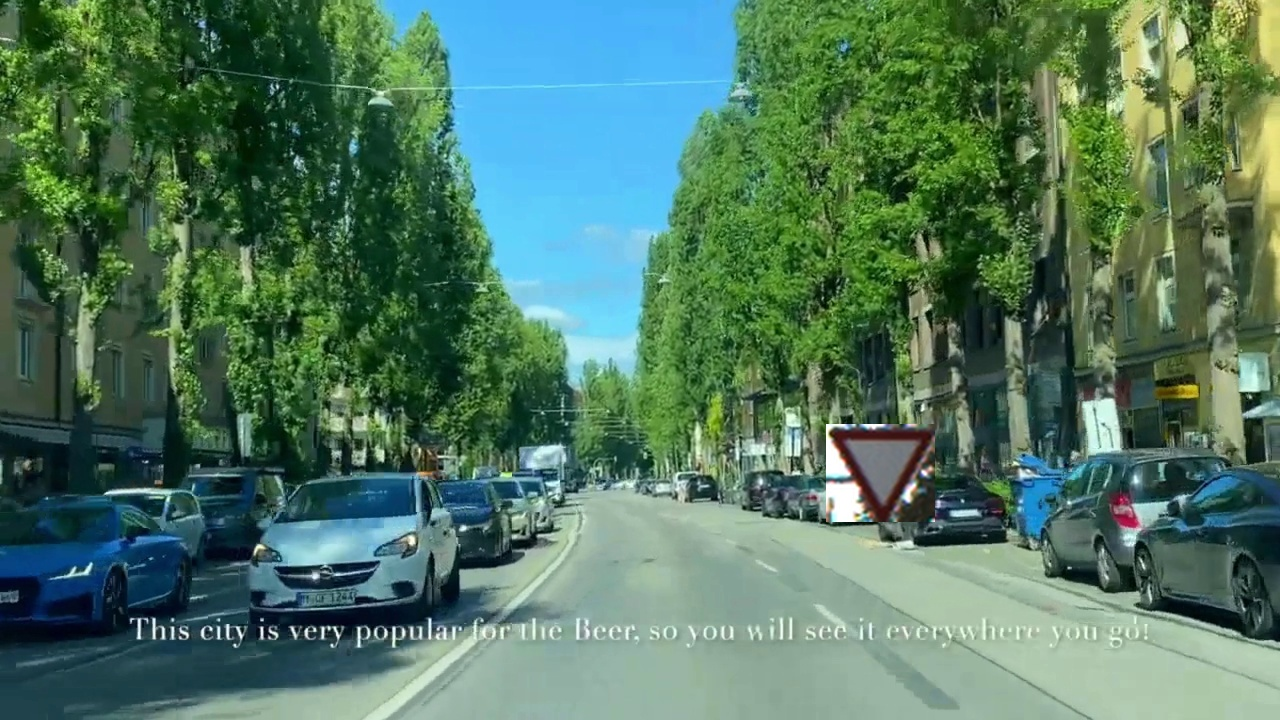Yield: (826, 424, 935, 522)
